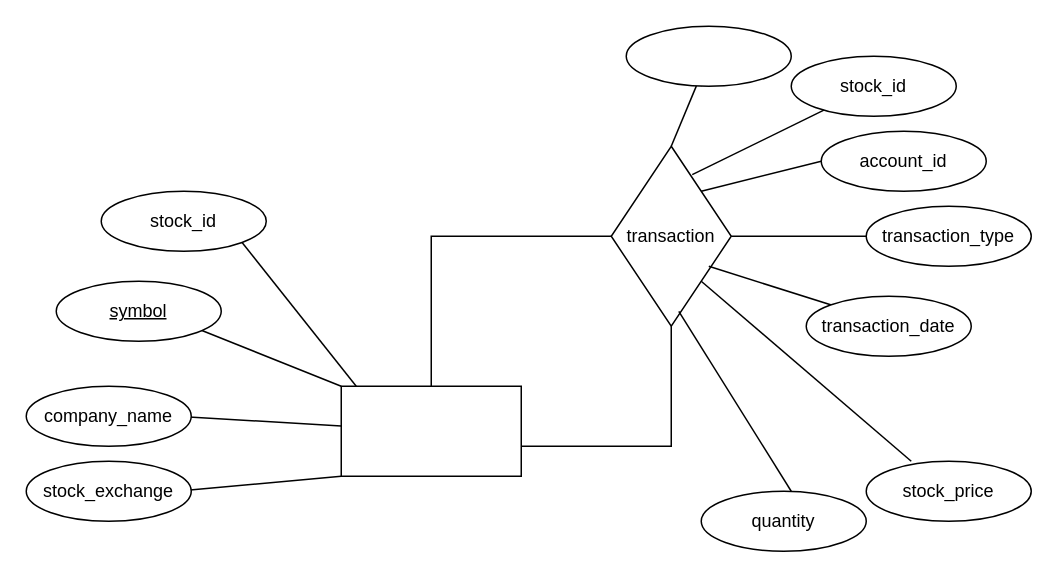
Some shapes in this 1058 by 578 pixel diagram are drawn without their labels. The shapes that lost their labels are listed below. From the top down, each one's centre as x and y in pixels, then its label:
point (708, 55): transaction_id
point (430, 430): stock
